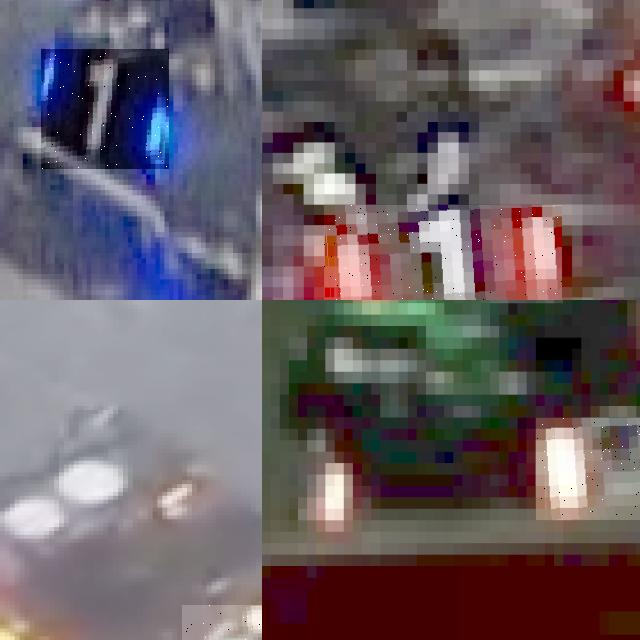B1: (41, 49, 169, 169)
R1: (324, 204, 561, 300)
R5: (182, 605, 262, 640)
Rs: (535, 417, 640, 520)
